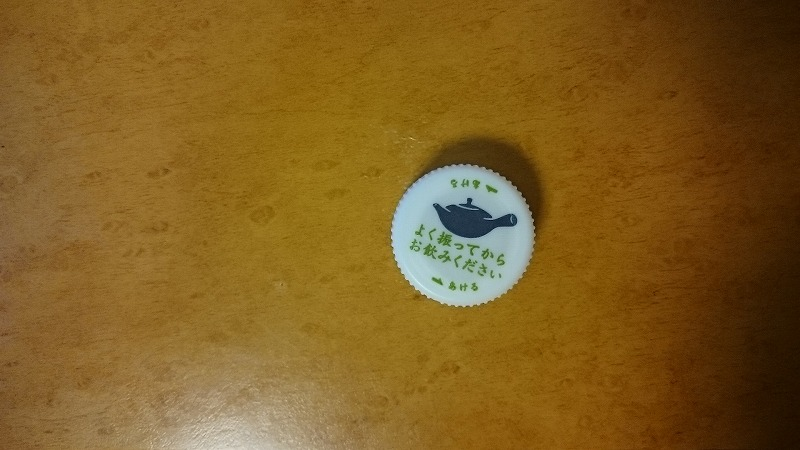A: (385, 161, 544, 312)
